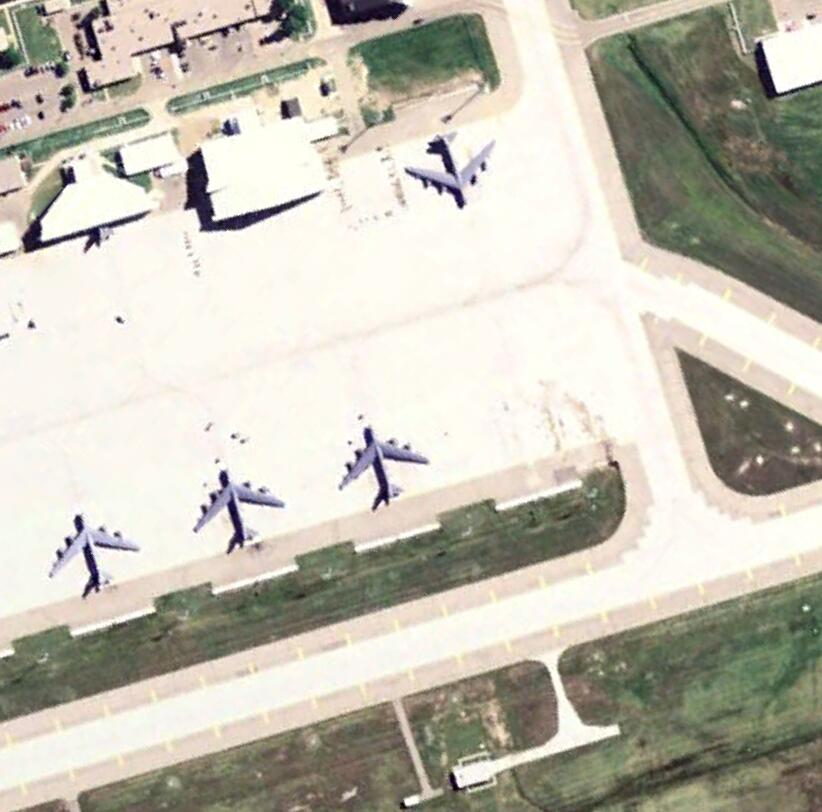A8: (337, 425, 437, 513), (45, 513, 143, 601), (404, 133, 503, 217), (191, 470, 287, 556)
